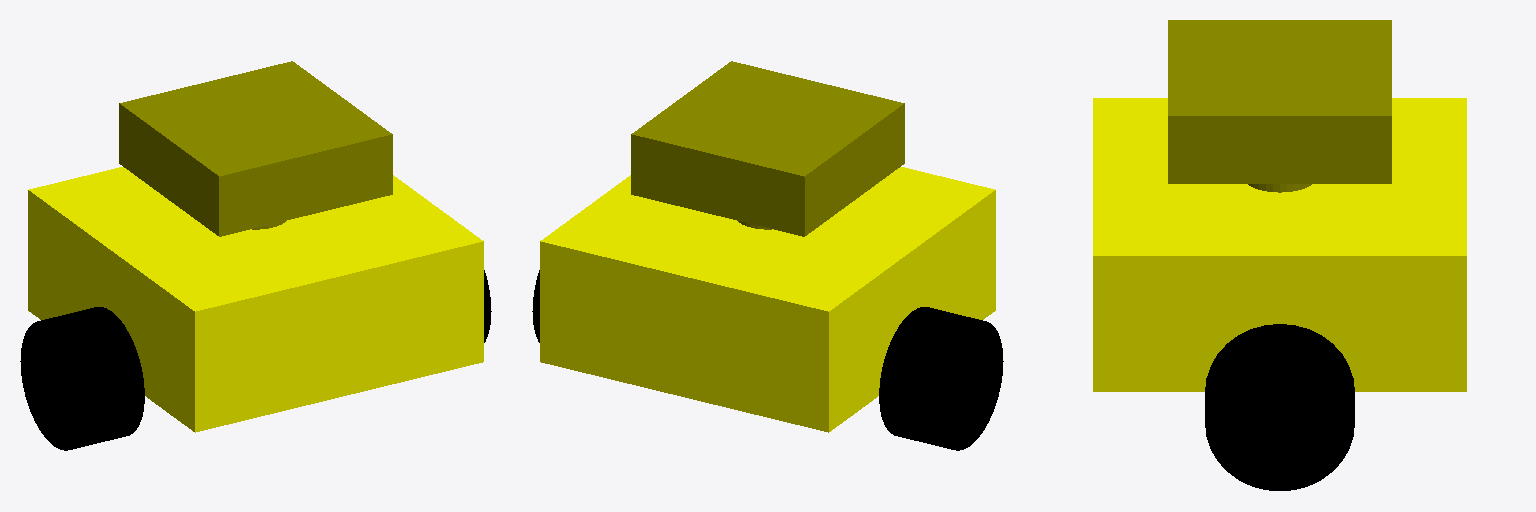
URDF robot description (simple_imp_robot):
<?xml version="1.0"?>
<robot name="simple_imp_robot">
  <!-- Material Definitions -->
    <material name="amarillo">
        <color rgba="1 1 0 1"/>
    </material>
    <material name="negro">
        <color rgba="0 0 0 1"/>
    </material>
    <material name="plomo">
        <color rgba="0.6 0.6 0 1"/>
    </material>
    <link name="base_link">
        <visual>
            <geometry>
                <box size="0.5 0.5 0.2"/>  
            </geometry>
            <origin xyz="0 0 0.1" rpy="0 0 0"/> 
            <material name="amarillo"/>
        </visual>
        <collision>
            <geometry>
                <box size="0.5 0.5 0.2"/>
            </geometry>
            <origin xyz="0 0 0.1" rpy="0 0 0"/>
        </collision>
    </link>

    <link name="neck_link">
        <visual>
            <geometry>
                <cylinder length="0.1" radius="0.05"/>  
            </geometry>
            <origin xyz="0 0 0.2" rpy="0 0 0"/>  
            <material name="plomo"/>
        </visual>
        <collision>
            <geometry>
                <cylinder length="0.1" radius="0.05"/>
            </geometry>
            <origin xyz="0 0 0.2" rpy="0 0 0"/>
        </collision>
    </link>

    <link name="head_link">
        <visual>
            <geometry>
                <box size="0.3 0.3 0.1"/>  
            </geometry>
            <origin xyz="0 0 0.25" rpy="0 0 0"/>  
            <material name="plomo"/>
        </visual>
        <collision>
            <geometry>
                <box size="0.3 0.3 0.1"/>
            </geometry>
            <origin xyz="0 0 0.25" rpy="0 0 0"/>
        </collision>
    </link>

    <!-- Left Wheel -->
    <link name="wheel1">
        <visual>
            <geometry>
                <cylinder length="0.1" radius="0.1"/>  
            </geometry>
            <origin xyz="0.25 0 0" rpy="0 1.5708 0"/>  
            <material name="negro"/>
        </visual>
        <collision>
            <geometry>
                <cylinder length="0.1" radius="0.1"/>
            </geometry>
            <origin xyz="0.25 0 0" rpy="0 1.5708 0"/>
        </collision>
    </link>

    <!-- Right Wheel -->
    <link name="wheel2">
        <visual>
            <geometry>
                <cylinder length="0.1" radius="0.1"/>  
            </geometry>
            <origin xyz="-0.25 0 0" rpy="0 1.5708 0"/>  
            <material name="negro"/>
        </visual>
        <collision>
            <geometry>
                <cylinder length="0.1" radius="0.1"/>
            </geometry>
            <origin xyz="-0.25 0 0" rpy="0 1.5708 0"/>
        </collision>
    </link>

    <joint name="base_to_wheel1" type="continuous">
        <parent link="base_link"/>
        <child link="wheel1"/>
        <origin xyz="0.05 0 0" rpy="0 0 0"/>
        <axis xyz="1 0 0"/> 
    </joint>

    <joint name="base_to_wheel2" type="continuous">
        <parent link="base_link"/>
        <child link="wheel2"/>
        <origin xyz="-0.05 0 0" rpy="0 0 0"/>
        <axis xyz="1 0 0"/>  
    </joint>

    <joint name="base_to_neck" type="fixed">
        <parent link="base_link"/>
        <child link="neck_link"/>
        <origin xyz="0 0 0.03" rpy="0 0 0"/>
    </joint>

    <joint name="neck_to_head" type="continuous">
        <parent link="neck_link"/>
        <child link="head_link"/>
        <origin xyz="0 0 0.03" rpy="0 0 0"/>
        <axis xyz="0 0 1"/>  <!-- Eje de movimiento de izquierda a derecha -->
    </joint>

</robot>

--- Facts derived from the render (not from the file) ---
The picture shows the robot from 3 angles, left to right: view 1: azimuth 30°, elevation 25°; view 2: azimuth 150°, elevation 25°; view 3: azimuth 270°, elevation 25°; orthographic projection.
Robot: simple_imp_robot — 5 links, 4 joints (3 continuous, 1 fixed); root link base_link; default pose: every joint at zero.
Links seen in each view (by area): view 1: base_link, head_link, wheel2; view 2: base_link, head_link, wheel2; view 3: base_link, head_link, wheel1.
Boxes of the visible links, x1,y1,x2,y2 form: base_link: (28, 167, 483, 432); head_link: (119, 61, 392, 236); wheel2: (20, 307, 144, 450); base_link: (540, 167, 995, 432); head_link: (631, 61, 904, 236); wheel2: (879, 307, 1003, 450); base_link: (1093, 98, 1466, 391); head_link: (1168, 20, 1391, 183); wheel1: (1205, 324, 1354, 490).
Size in the robot's own frame: 0.7 by 0.5 by 0.46 metres.
Geometry: primitives only (box / cylinder / sphere), no mesh files.
